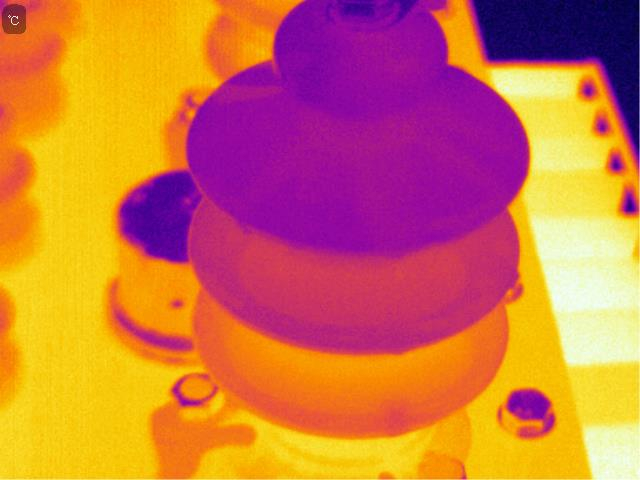Oil: (323, 17, 434, 110), (295, 115, 445, 182), (344, 190, 418, 240), (451, 147, 498, 208), (376, 401, 414, 435), (221, 85, 284, 104), (386, 336, 415, 363), (267, 55, 285, 80)
